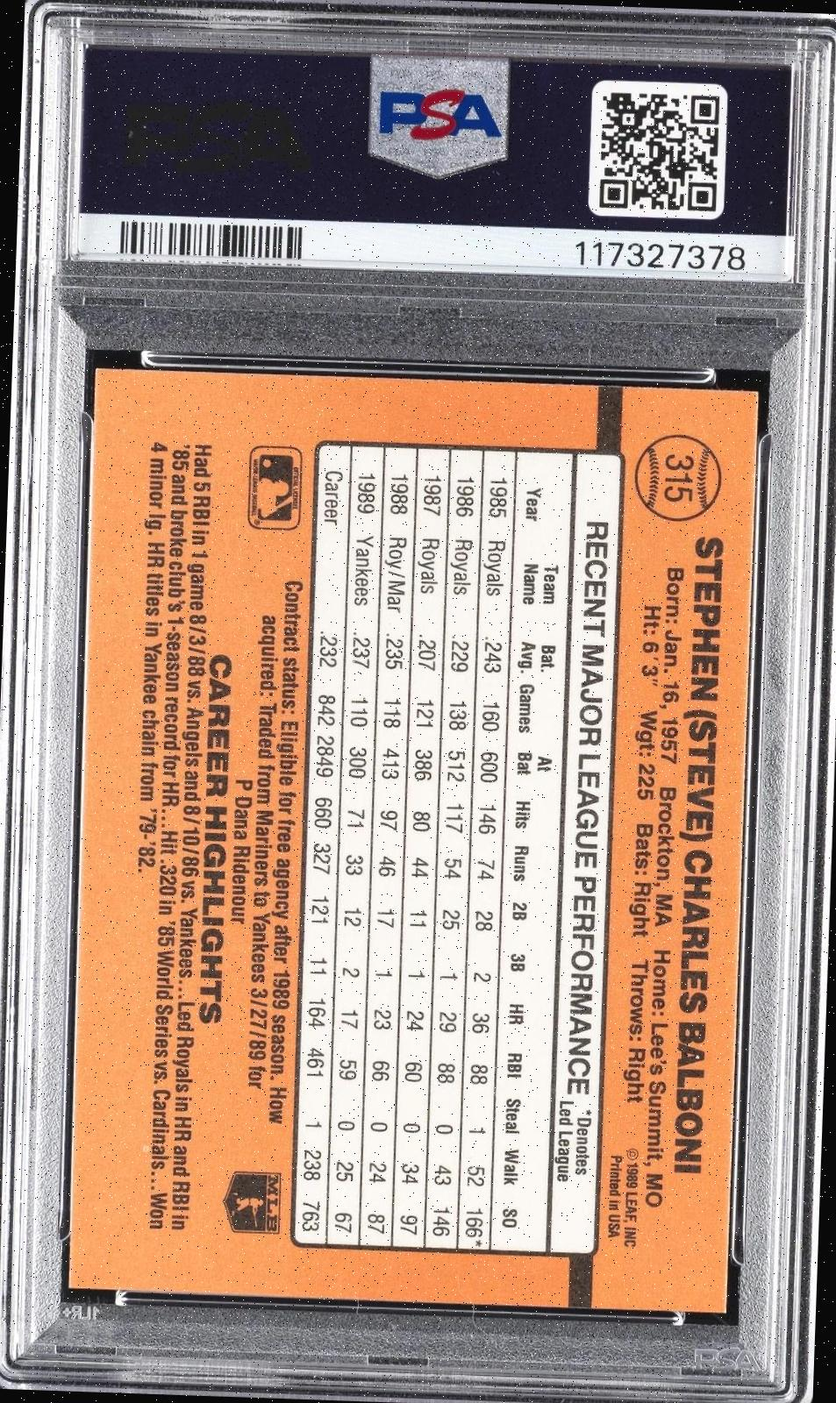card-2UtV: (67, 367, 759, 1314)
